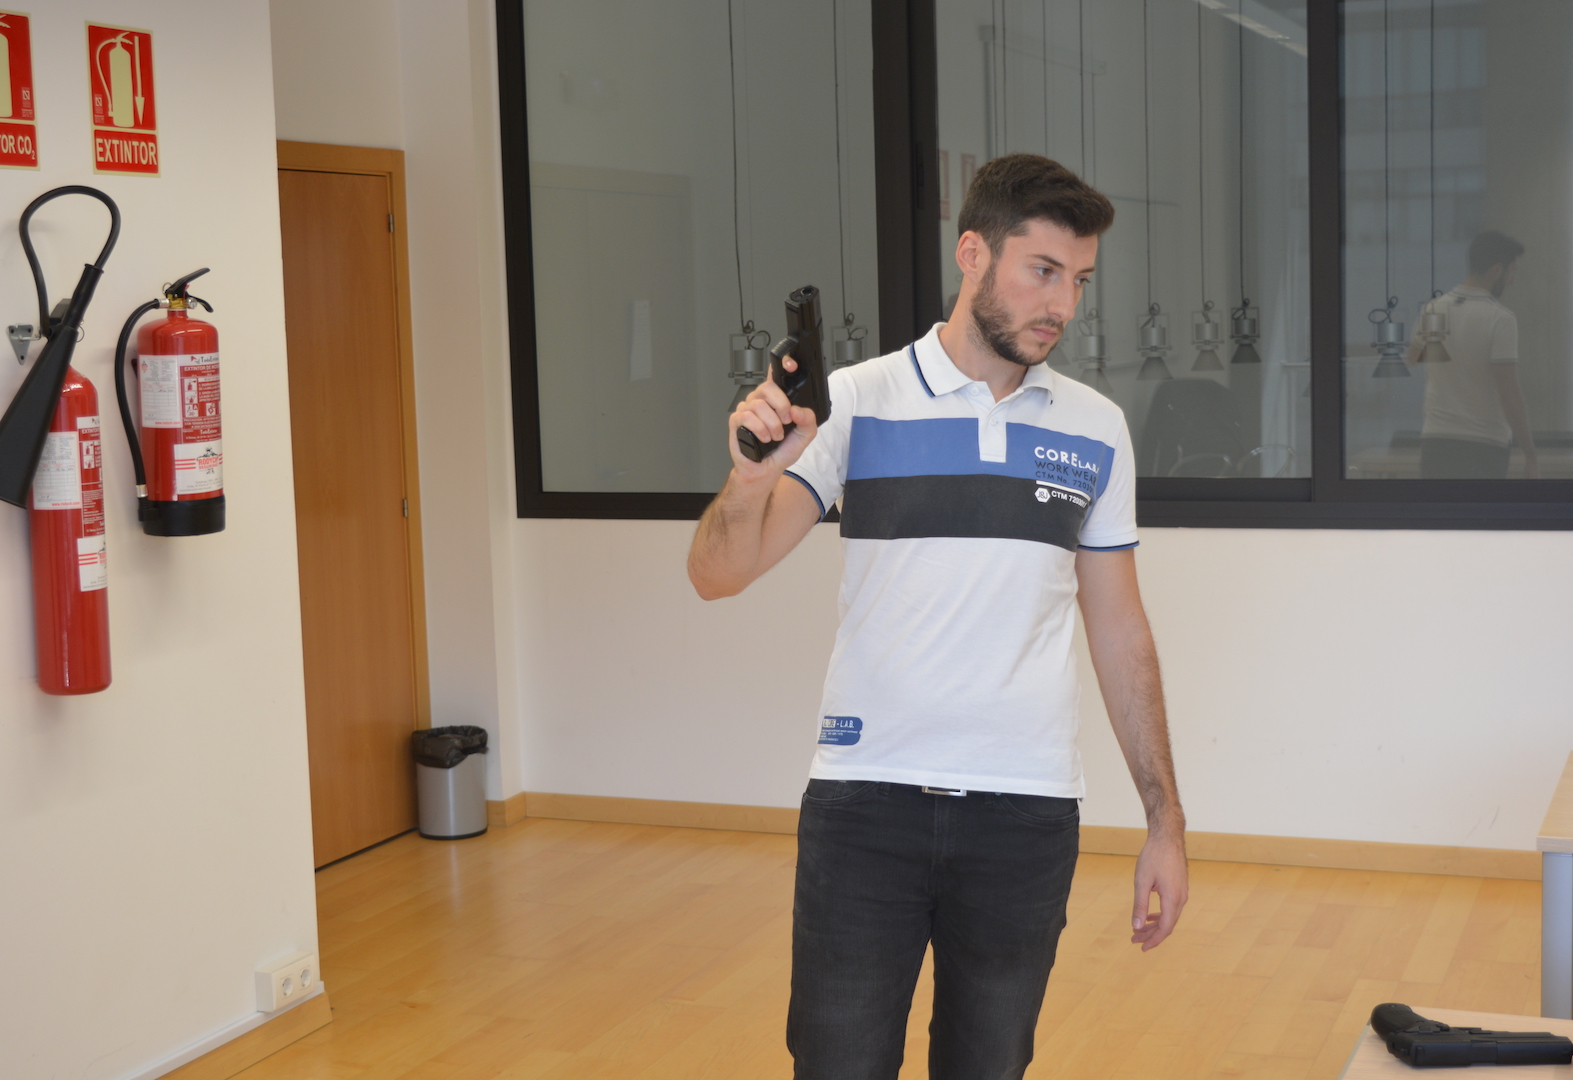pistol: (736, 284, 833, 464)
